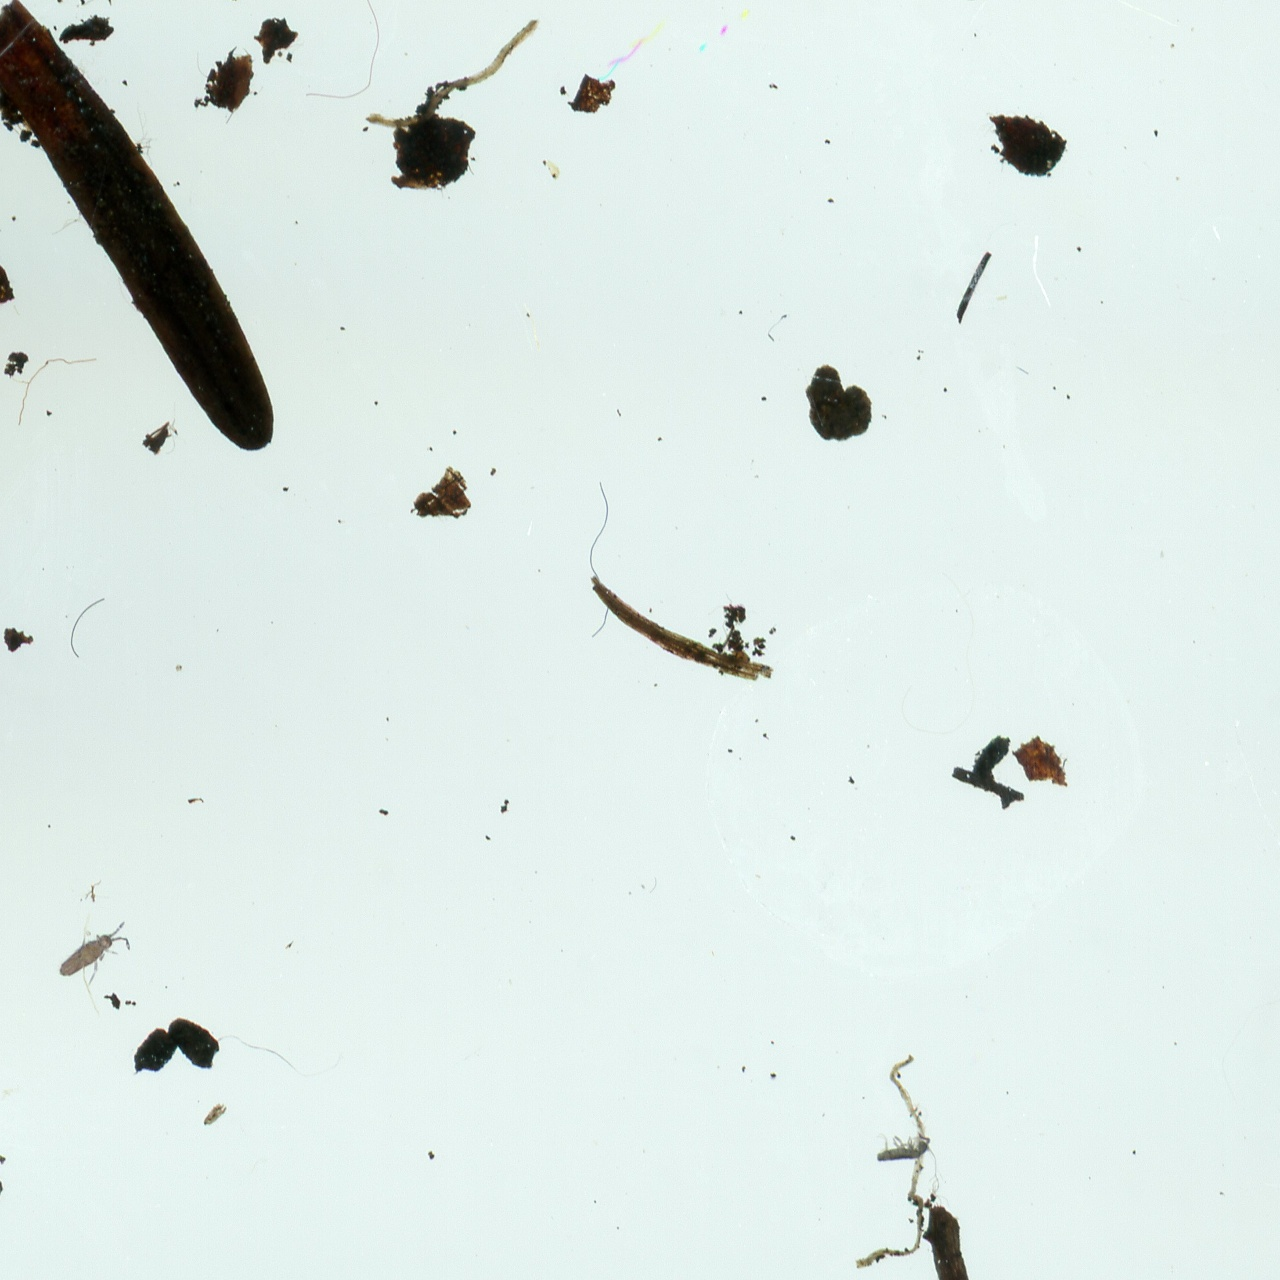arthropod: (50, 920, 134, 981)
